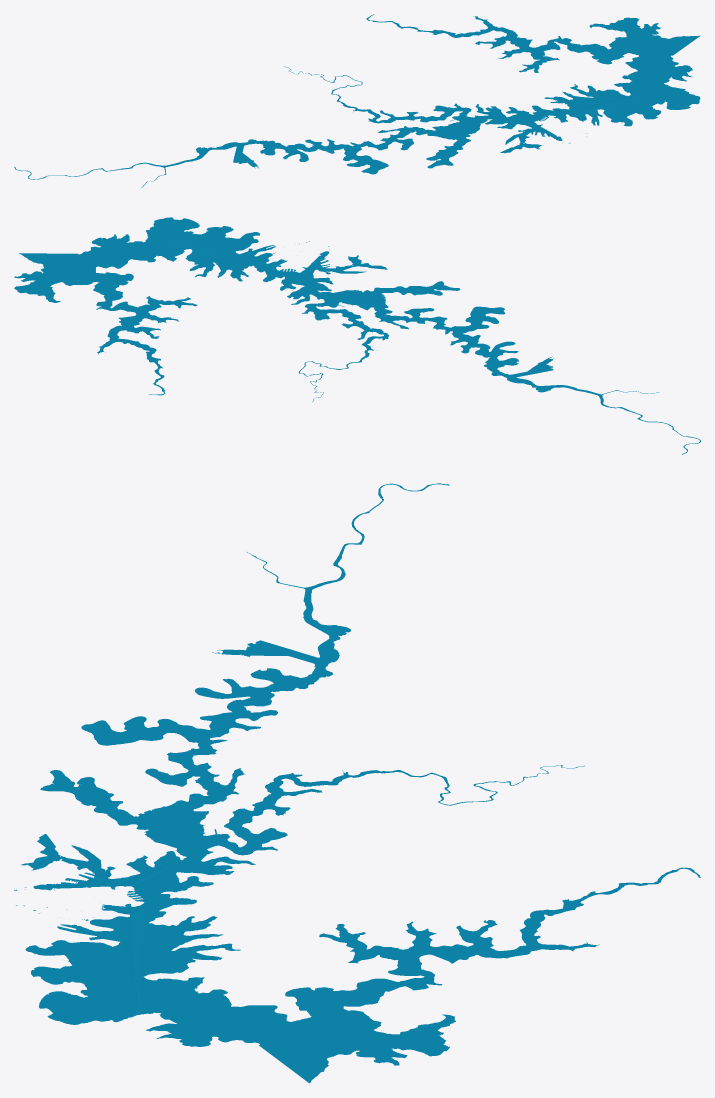
File: water.glb
3 renders of one model, top to bottom at view 1: azimuth 30°, elevation 25°; view 2: azimuth 150°, elevation 25°; view 3: azimuth 270°, elevation 25°, orthographic. The views are drawn at different scales.
Visible parts, largest first — view 1: water; view 2: water; view 3: water.
Part boxes in pixels (x1,y1,x2,y2): water: [14, 14, 700, 187]; water: [14, 217, 700, 454]; water: [14, 483, 700, 1083].
Size of the model in its own units: 28206 by 79.19 by 13643.
